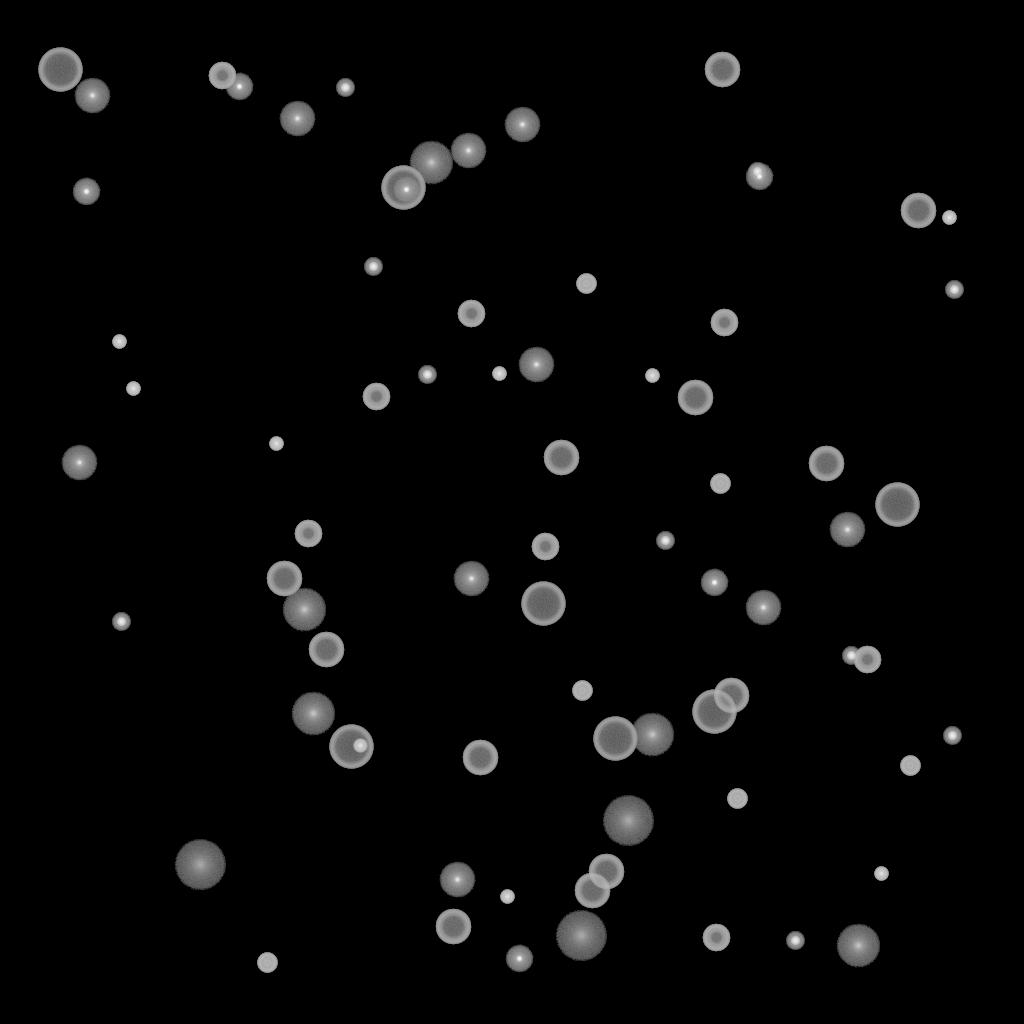depth:-10: (505, 945, 533, 973), (72, 178, 100, 206), (745, 163, 773, 191), (700, 569, 728, 597), (225, 73, 253, 101), (392, 176, 420, 204)
depth:-20: (656, 532, 674, 550), (112, 613, 130, 631), (418, 366, 436, 384), (786, 932, 804, 950), (945, 281, 963, 299), (943, 727, 961, 745), (842, 647, 860, 665), (364, 258, 382, 276), (748, 163, 766, 181), (336, 79, 354, 97)
depth:-30: (500, 890, 514, 904), (874, 867, 888, 881), (492, 367, 506, 381), (112, 335, 126, 349), (942, 211, 956, 225), (353, 739, 367, 753), (645, 369, 659, 383), (126, 382, 140, 396), (269, 437, 283, 451)
depth:-40: (257, 953, 277, 973), (710, 474, 730, 494), (727, 789, 747, 809), (900, 756, 920, 776), (576, 274, 596, 294), (572, 681, 592, 701)
depth:-50: (362, 383, 390, 411), (531, 533, 559, 561), (702, 924, 730, 952), (710, 309, 738, 337), (294, 520, 322, 548), (457, 300, 485, 328), (853, 646, 881, 674), (208, 62, 236, 90)
depth:-60: (588, 854, 624, 890), (677, 380, 713, 416), (704, 52, 740, 88), (900, 193, 936, 229), (543, 440, 579, 476), (574, 873, 610, 909), (462, 740, 498, 776), (435, 909, 471, 945), (308, 632, 344, 668), (266, 561, 302, 597), (808, 446, 844, 482), (713, 678, 749, 714)
depth:-70: (593, 717, 637, 761), (38, 48, 82, 92), (521, 582, 565, 626), (692, 690, 736, 734), (329, 725, 373, 769), (875, 483, 919, 527), (381, 166, 425, 210)
depth:0: (439, 862, 475, 898), (745, 590, 781, 626), (279, 101, 315, 137), (829, 512, 865, 548), (504, 107, 540, 143), (518, 347, 554, 383), (61, 445, 97, 481), (450, 133, 486, 169), (74, 78, 110, 114), (453, 561, 489, 597)
depth:10: (291, 692, 335, 736), (630, 713, 674, 757), (409, 141, 453, 185), (282, 588, 326, 632), (836, 924, 880, 968)
depth:20: (174, 840, 226, 890), (602, 796, 654, 846), (555, 911, 607, 961)
